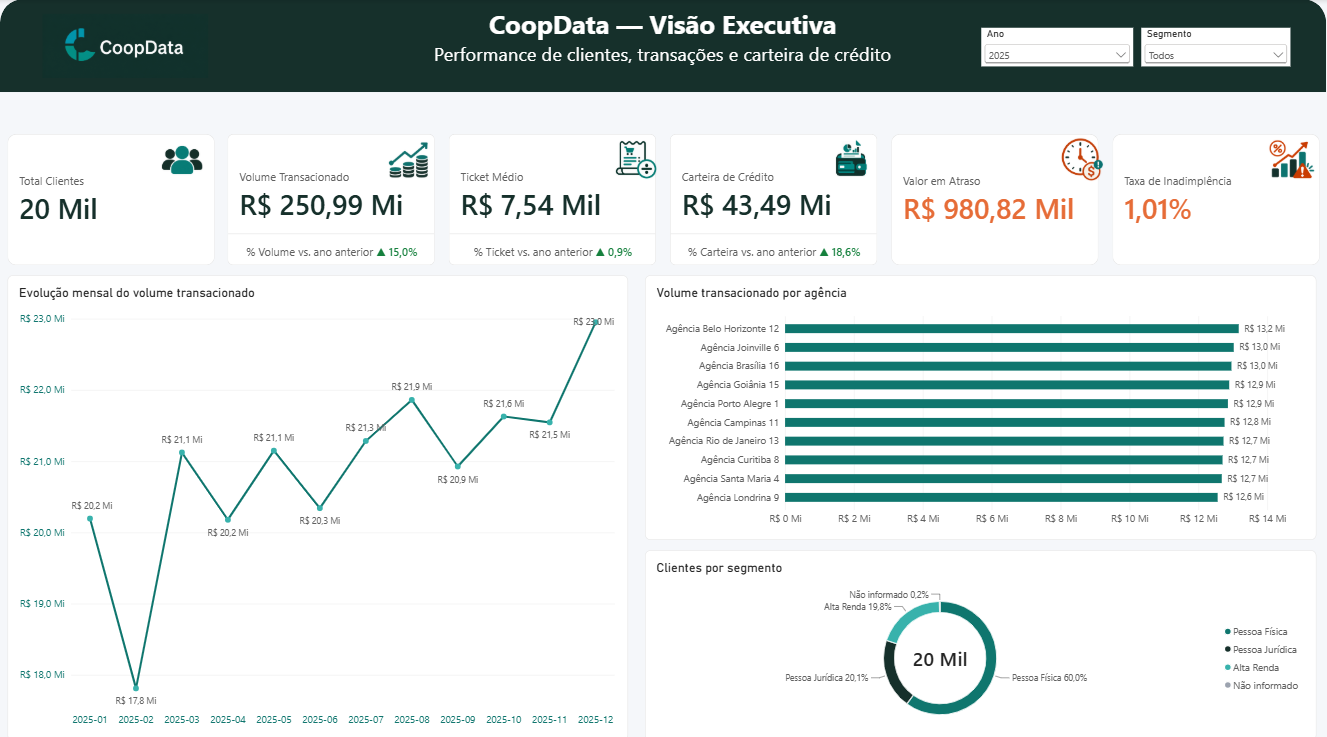

The dashboard page shown, as its layout file describes it:
{"tool":"powerbi","page":{"name":"Visão Executiva","canvas":[1920,1080],"ordinal":0},"visuals":[{"type":"cardVisual","fields":{"Data":["Medidas.Total Clientes"]},"box":[10,195,300,190],"z":0},{"type":"shape","box":[0,0,1920,135],"z":1000},{"type":"textbox","box":[583.3,11.7,753.3,115],"z":2000},{"type":"cardVisual","fields":{"Data":["Medidas.Volume Transacionado"]},"box":[330,195,300,190],"z":3000},{"type":"cardVisual","fields":{"Data":["Medidas.Ticket Médio"]},"box":[650,195,300,190],"z":4000},{"type":"cardVisual","fields":{"Data":["Medidas.Carteira de Crédito"]},"box":[970,195,300,190],"z":5000},{"type":"cardVisual","fields":{"Data":["Medidas.Valor em Atraso"]},"box":[1290,195,300,190],"z":6000},{"type":"cardVisual","fields":{"Data":["Medidas.Taxa de Inadimplência"]},"box":[1610,195,300,190],"z":7000},{"type":"slicer","fields":{"Values":["DimData.Ano"]},"box":[1420,42,220,56],"z":8000},{"type":"slicer","fields":{"Values":["DimClientes.segmento"]},"box":[1652,42,216,56],"z":9000},{"type":"image","box":[62,0,240,136],"z":10000},{"type":"lineChart","title":"Evolução mensal do volume transacionado","fields":{"Category":["DimData.AnoMes"],"Y":["Medidas.Volume Transacionado"]},"box":[10,400,898.3,675],"z":11000},{"type":"clusteredBarChart","title":"Volume transacionado por agência","fields":{"Category":["DimAgencias.nome_agencia"],"Y":["Medidas.Volume Transacionado"]},"box":[934,400,971.7,383.3],"z":12000},{"type":"donutChart","title":"Clientes por segmento","fields":{"Category":["DimClientes.segmento"],"Y":["Medidas.Total Clientes"]},"box":[934,798,972,277],"z":13000},{"type":"image","box":[226,196,75,75],"z":14000},{"type":"image","box":[554,196,75,75],"z":15000},{"type":"image","box":[884,196,75,75],"z":16000},{"type":"image","box":[1194,196,75,75],"z":17000},{"type":"image","box":[1530,196,75,75],"z":18000},{"type":"image","box":[1830,196,75,75],"z":19000}]}

Visuals, with their boxes in screenshot pixels (x1, y1, x2, y2), scaled from the page's 1920x1080 canvas onto the 1327x737 screenshot:
cardVisual - Medidas.Total Clientes: bbox=[7, 133, 214, 263]
shape: bbox=[0, 0, 1326, 92]
textbox: bbox=[403, 8, 924, 86]
cardVisual - Medidas.Volume Transacionado: bbox=[228, 133, 435, 263]
cardVisual - Medidas.Ticket Médio: bbox=[449, 133, 657, 263]
cardVisual - Medidas.Carteira de Crédito: bbox=[670, 133, 878, 263]
cardVisual - Medidas.Valor em Atraso: bbox=[892, 133, 1099, 263]
cardVisual - Medidas.Taxa de Inadimplência: bbox=[1113, 133, 1320, 263]
slicer - DimData.Ano: bbox=[981, 29, 1133, 67]
slicer - DimClientes.segmento: bbox=[1142, 29, 1291, 67]
image: bbox=[43, 0, 209, 93]
"Evolução mensal do volume transacionado" lineChart: bbox=[7, 273, 628, 734]
"Volume transacionado por agência" clusteredBarChart: bbox=[646, 273, 1317, 535]
"Clientes por segmento" donutChart: bbox=[646, 545, 1317, 734]
image: bbox=[156, 134, 208, 185]
image: bbox=[383, 134, 435, 185]
image: bbox=[611, 134, 663, 185]
image: bbox=[825, 134, 877, 185]
image: bbox=[1057, 134, 1109, 185]
image: bbox=[1265, 134, 1317, 185]
